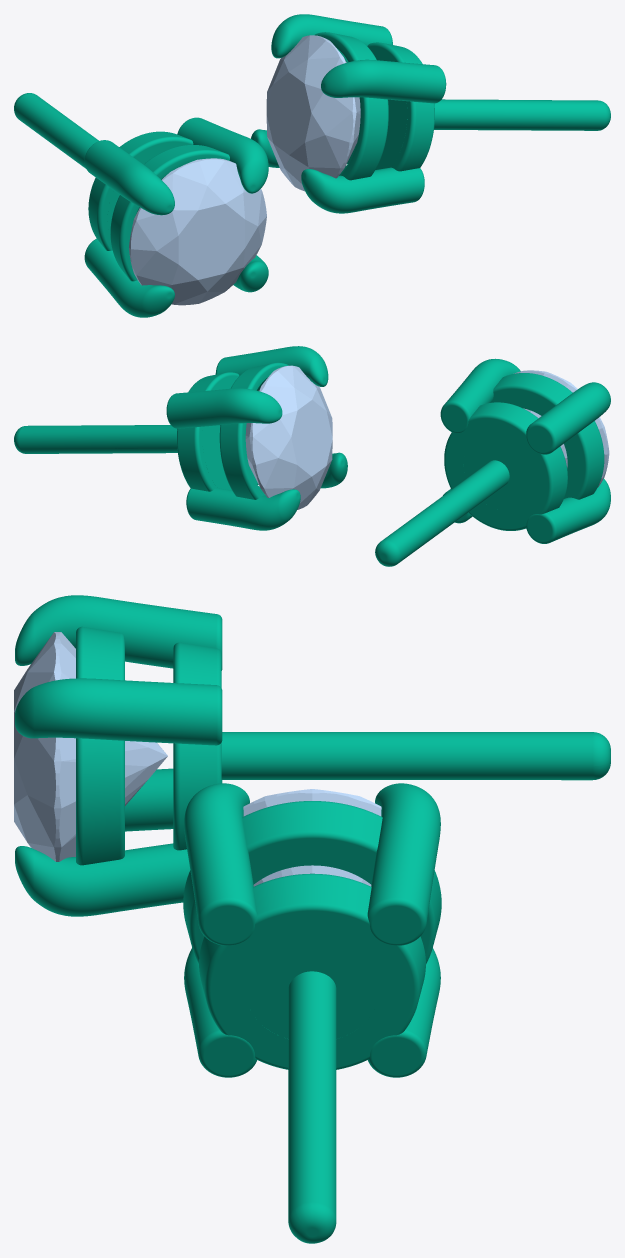
3 views of the same model, one above another, from view 1: azimuth 30°, elevation 25°; view 2: azimuth 150°, elevation 25°; view 3: azimuth 270°, elevation 25° (orthographic). The views are drawn at different scales.
Parts seen in each view (by area): view 1: Diamond_Round (×2), Head Prong (×8), Bezel (×4), VEAR699.3dm; view 2: Head Prong (×7), Bezel (×4), VEAR699.3dm, Diamond_Round (×2); view 3: Head Prong (×8), Bezel (×4), VEAR699.3dm, Diamond_Round (×2).
Part boxes in pixels (x1,y1,x2,y2): Diamond_Round (×2): [129, 35, 360, 305]; Head Prong (×8): [84, 14, 446, 317]; Bezel (×4): [88, 32, 434, 281]; VEAR699.3dm: [14, 93, 610, 234]; Head Prong (×7): [166, 346, 610, 543]; Bezel (×4): [177, 362, 604, 530]; VEAR699.3dm: [14, 425, 531, 566]; Diamond_Round (×2): [245, 365, 609, 509]; Head Prong (×8): [15, 595, 440, 1077]; Bezel (×4): [76, 626, 441, 1069]; VEAR699.3dm: [221, 732, 610, 1243]; Diamond_Round (×2): [14, 632, 381, 886].
Bounding box in the file's own units: 3.37 × 0.8935 × 1.96.
